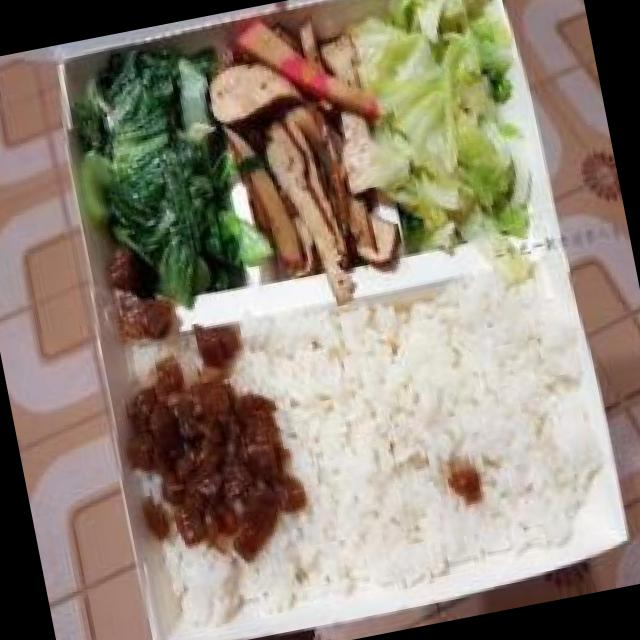rice: (240, 255, 608, 608)
